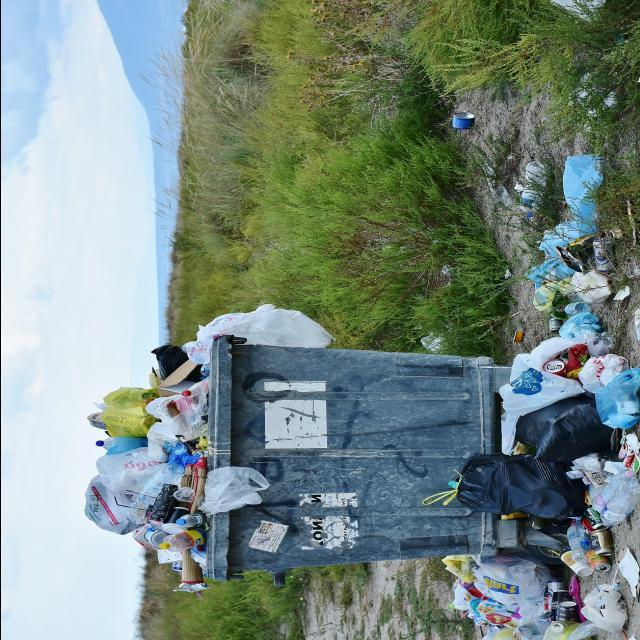Trashbag: (450, 446, 580, 527), (514, 390, 615, 460)
